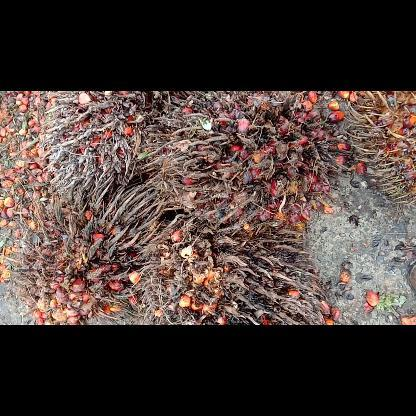Terlalu masak: (142, 90, 336, 238), (130, 196, 334, 324), (2, 174, 164, 324), (37, 91, 205, 205)
